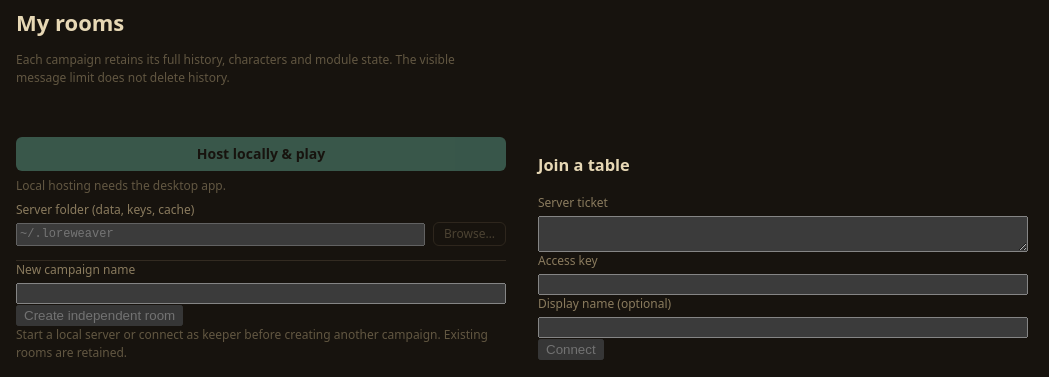
Test: PlayView › disables connect until ticket and key are filled
expect the button "Connect" is disabled: met, box [538,339,604,360]
In the text box labelled "Server ticket": (783, 234) [538,216,1028,252], type "endpoint-abc"
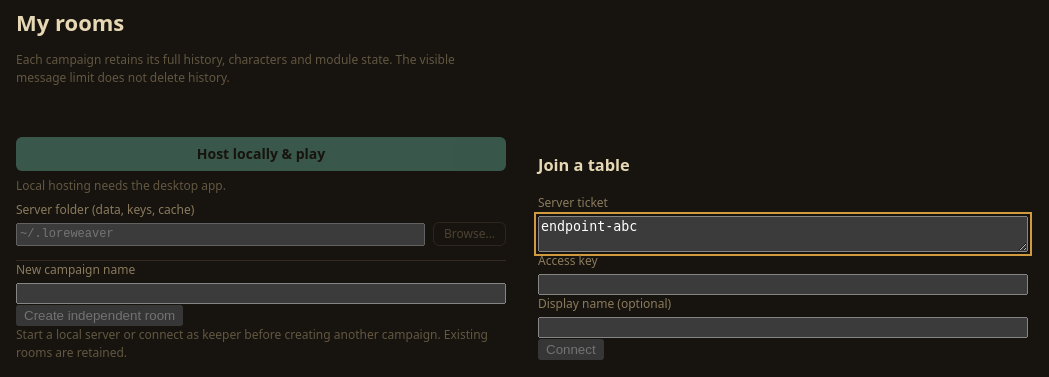
expect the button "Connect" is disabled: met, box [538,339,604,360]
In the password field labelled "Access key": (783, 285) [538,274,1028,295], type "k-1"
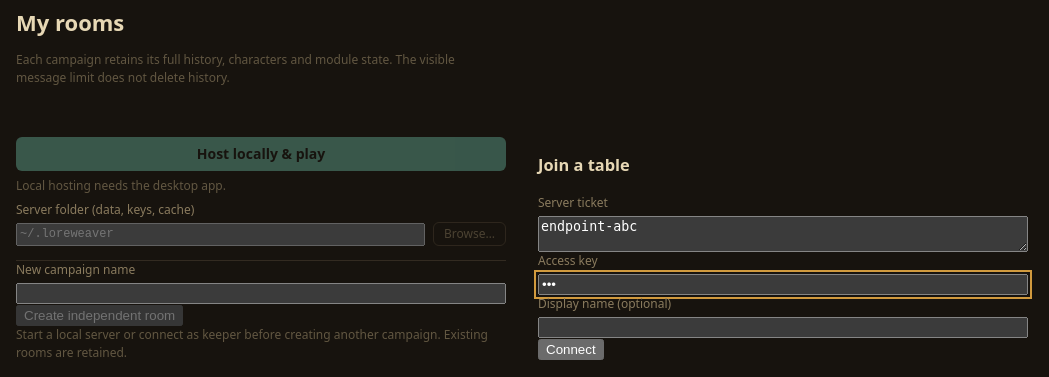
expect the button "Connect" is enabled: met, box [538,339,604,360]
